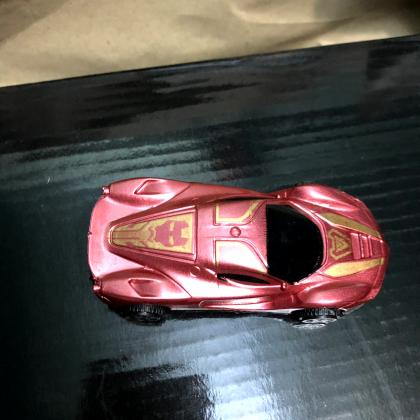Car: (86, 178, 391, 325)
